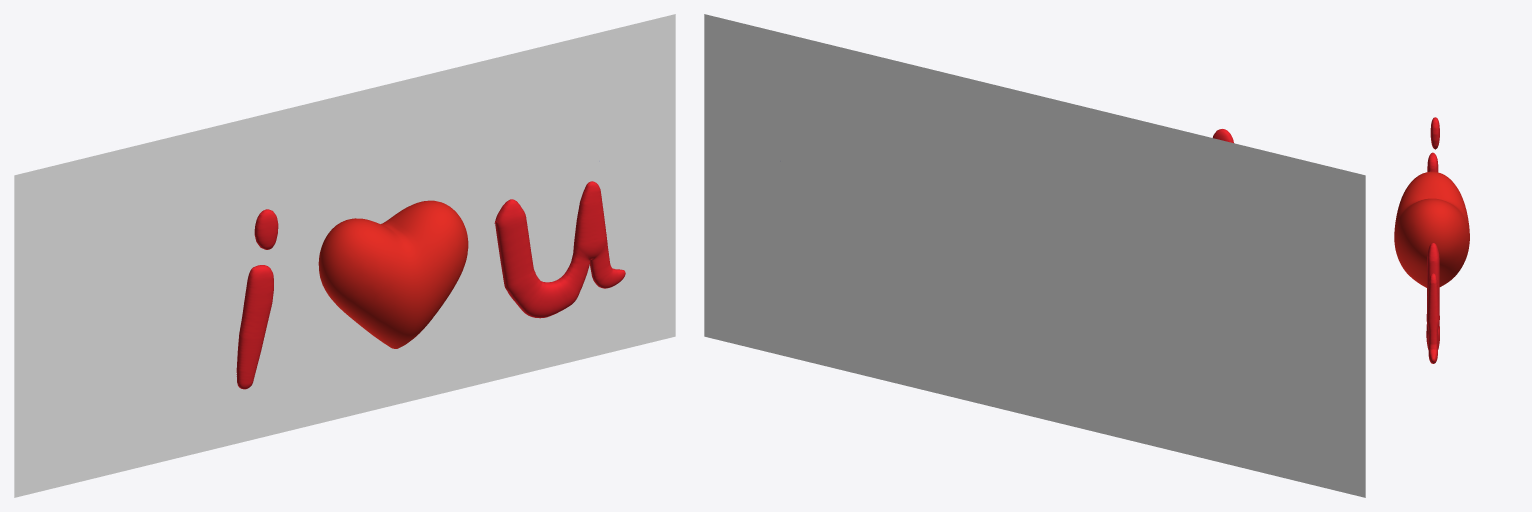
File: ily.glb
3 renders of one model, left to right at view 1: azimuth 30°, elevation 25°; view 2: azimuth 150°, elevation 25°; view 3: azimuth 270°, elevation 25°, orthographic. The views are drawn at different scales.
Visible parts, largest first — view 1: mesh_id1, node_id76, mesh_id90, mesh_id78, mesh_id88; view 2: mesh_id1; view 3: node_id76, mesh_id90, mesh_id88, mesh_id78.
Part boxes in pixels (box(x1,y1,x2,y2)): mesh_id1: box(14, 14, 675, 497); node_id76: box(318, 200, 468, 348); mesh_id90: box(494, 181, 625, 318); mesh_id78: box(236, 265, 273, 389); mesh_id88: box(254, 209, 278, 249); mesh_id1: box(704, 14, 1365, 497); node_id76: box(1394, 171, 1469, 287); mesh_id90: box(1426, 243, 1439, 363); mesh_id88: box(1430, 117, 1439, 149); mesh_id78: box(1427, 152, 1438, 172).
Bounding box in the file's own units: 1.35 × 0.629 × 0.291.
Materials: 5 (5 with a texture image).
